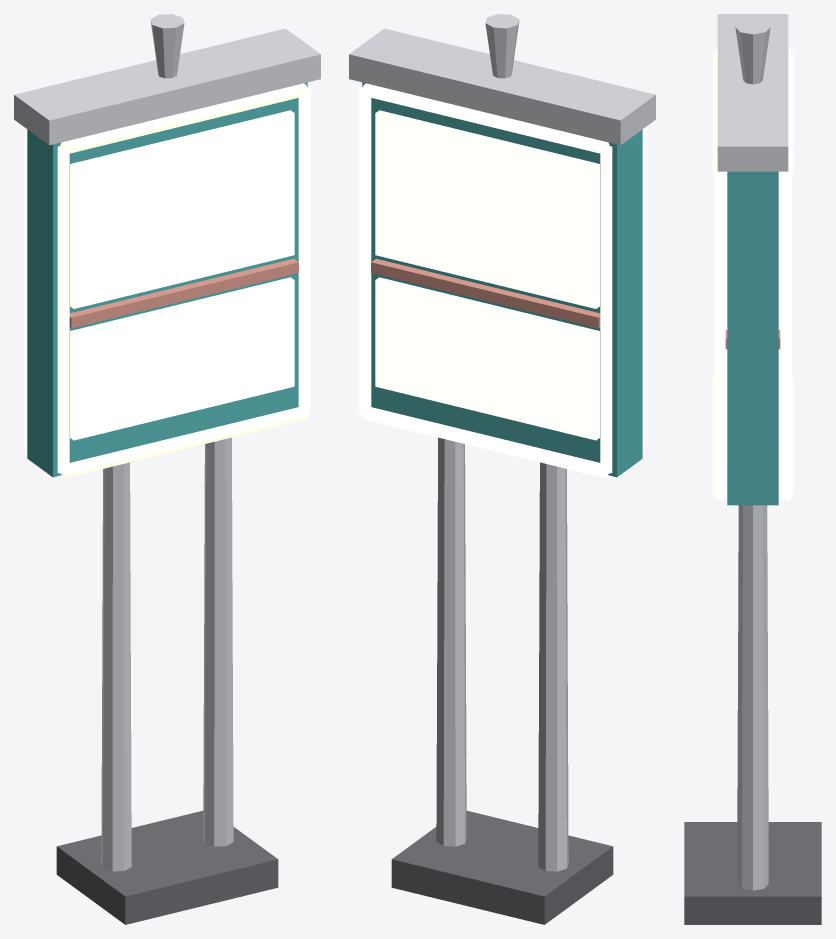
The model's file is retro-diner-and-roadside-motel-neon-vacancy-sign-52e8e9c2__37353.glb.
3 views of the same model, side by side, from view 1: azimuth 30°, elevation 25°; view 2: azimuth 150°, elevation 25°; view 3: azimuth 270°, elevation 25° (orthographic).
Visible parts, largest first — view 1: neon-vacancy-sign-neon, neon-vacancy-sign-chrome, neon-vacancy-sign-turquoise, neon-vacancy-sign-asphalt, neon-vacancy-sign-coral; view 2: neon-vacancy-sign-neon, neon-vacancy-sign-chrome, neon-vacancy-sign-turquoise, neon-vacancy-sign-asphalt, neon-vacancy-sign-coral; view 3: neon-vacancy-sign-chrome, neon-vacancy-sign-turquoise, neon-vacancy-sign-asphalt, neon-vacancy-sign-neon.
Boxes of the visible parts, x1,y1,x2,y2 form: neon-vacancy-sign-neon: [24, 83, 310, 477]; neon-vacancy-sign-chrome: [14, 14, 320, 871]; neon-vacancy-sign-turquoise: [27, 82, 307, 477]; neon-vacancy-sign-asphalt: [56, 810, 278, 924]; neon-vacancy-sign-coral: [69, 258, 298, 328]; neon-vacancy-sign-neon: [359, 83, 645, 477]; neon-vacancy-sign-chrome: [349, 14, 655, 871]; neon-vacancy-sign-turquoise: [362, 82, 642, 477]; neon-vacancy-sign-asphalt: [391, 810, 613, 924]; neon-vacancy-sign-coral: [371, 258, 600, 328]; neon-vacancy-sign-chrome: [717, 14, 788, 890]; neon-vacancy-sign-turquoise: [727, 171, 778, 505]; neon-vacancy-sign-asphalt: [684, 822, 821, 924]; neon-vacancy-sign-neon: [712, 48, 793, 500].
Size of the model in its own units: 1.6 by 4.84 by 0.7.
